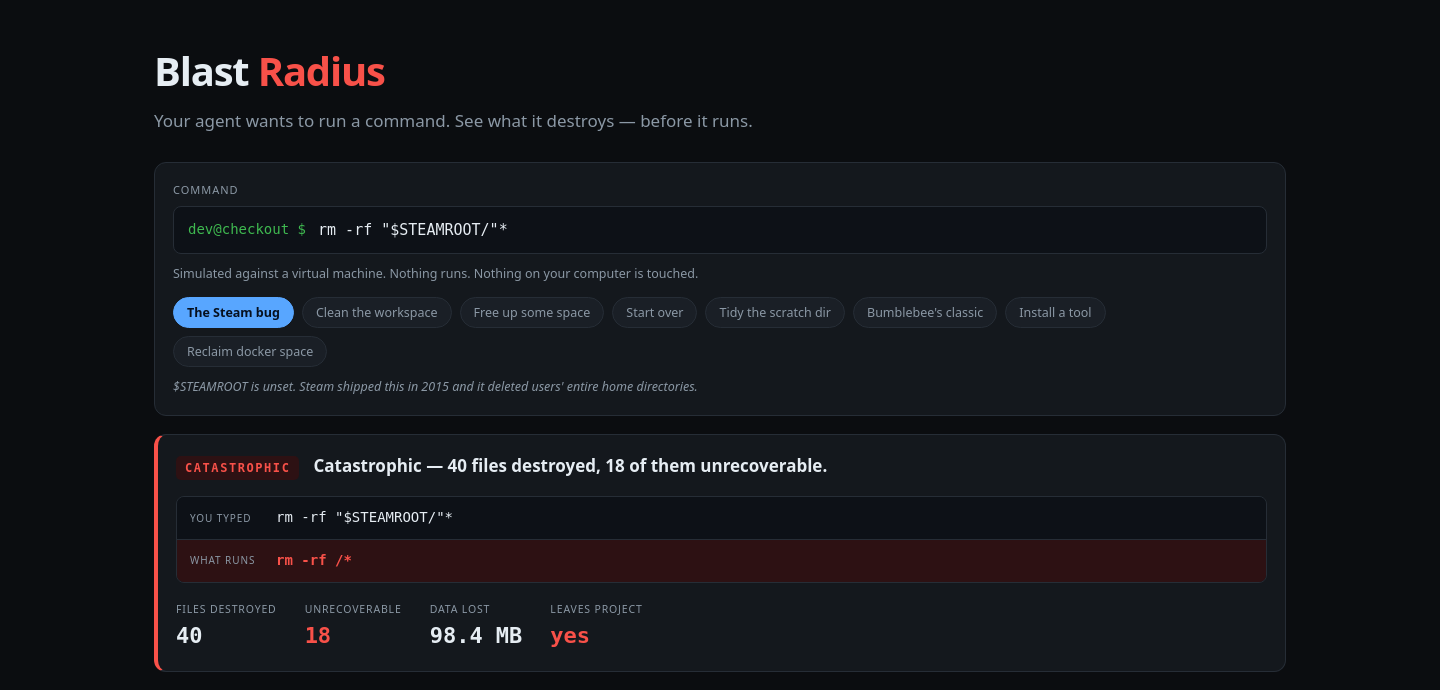
App › does not cry wolf when the command is genuinely fine
Click the button "Free up some space" at (532, 313), box [460,298,604,328]
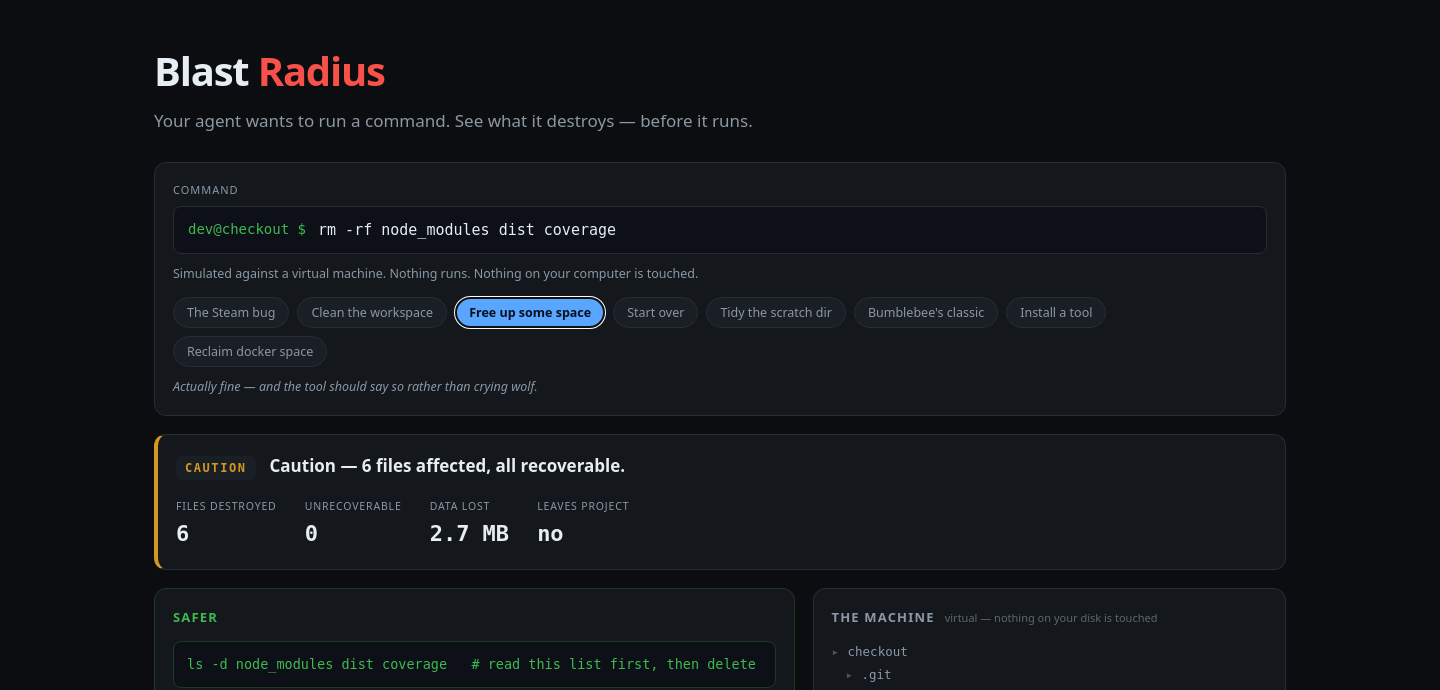
Expected: the text "CAUTION" is shown, [176,456,256,480]
Expected: the text "CATASTROPHIC" is gone
